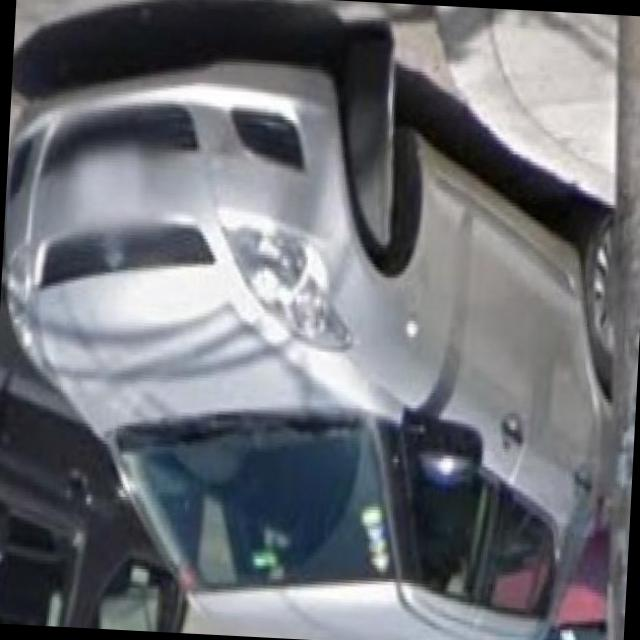car: (0, 28, 635, 640)
